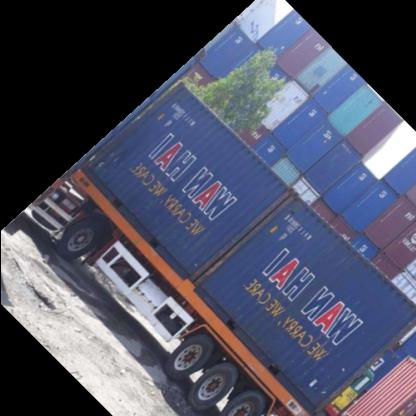Damage: (190, 190, 296, 290)
